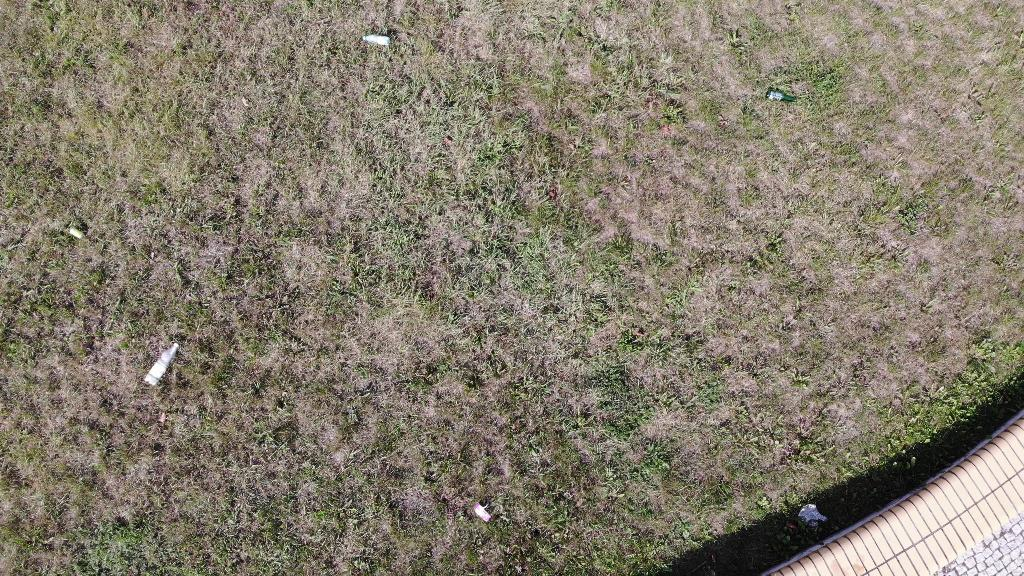garbage: (142, 339, 180, 390), (798, 503, 831, 531), (768, 87, 797, 108), (363, 31, 395, 49)
